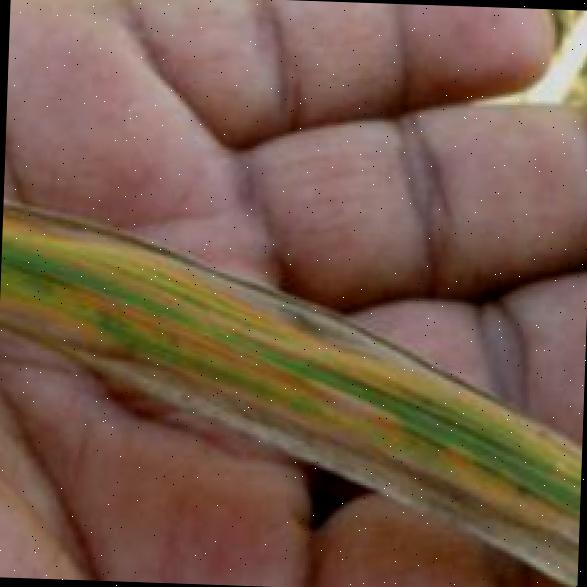Bacteria_Leaf_Blight: (7, 200, 550, 530)
